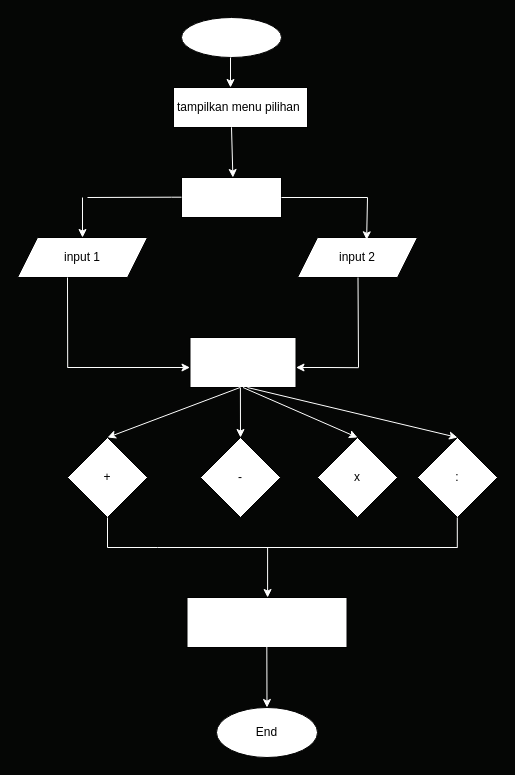
This 515x775 diagram has some shape labels left out. The shapes that lost their labels are listed below. From the top down, each one's centre as x and y in pixels, then its label:
At (x=231, y=37): "Start".
At (x=231, y=197): "pilih operasi".
At (x=242, y=362): "proses operasi".
At (x=266, y=622): "tampilkan hasil".
